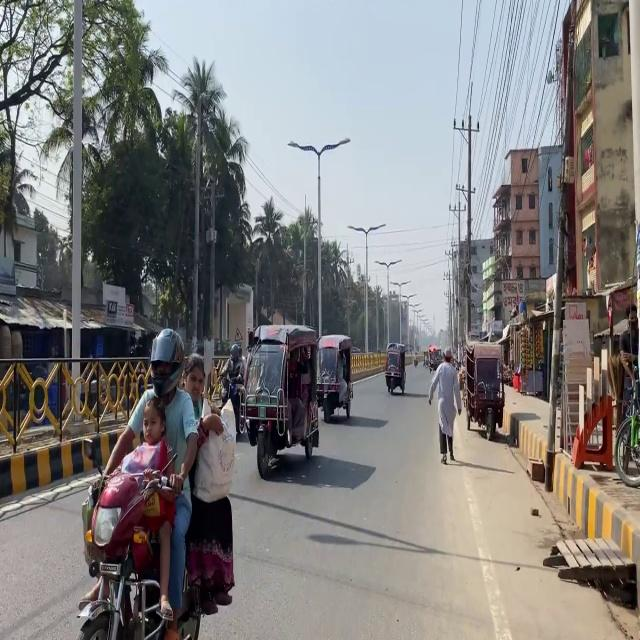Construction-barrier: (551, 449, 635, 559), (0, 425, 121, 500), (350, 365, 385, 385)
Fallen-tree: (76, 441, 206, 639)
Garbage-bin: (179, 352, 235, 615), (428, 348, 462, 464), (618, 304, 639, 416)
Light-pole: (69, 0, 84, 412)
Traffic-cone: (241, 323, 320, 479), (462, 340, 505, 440), (316, 333, 353, 423)
